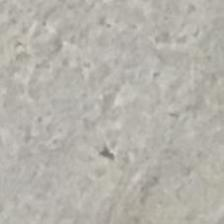Non_Crack: (23, 44, 213, 189)
